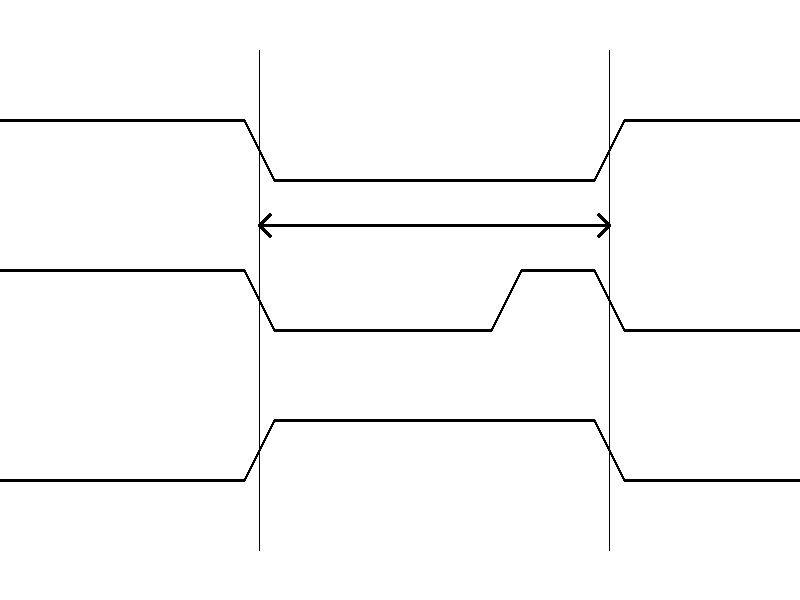double_arrow: (259, 210, 609, 240)
